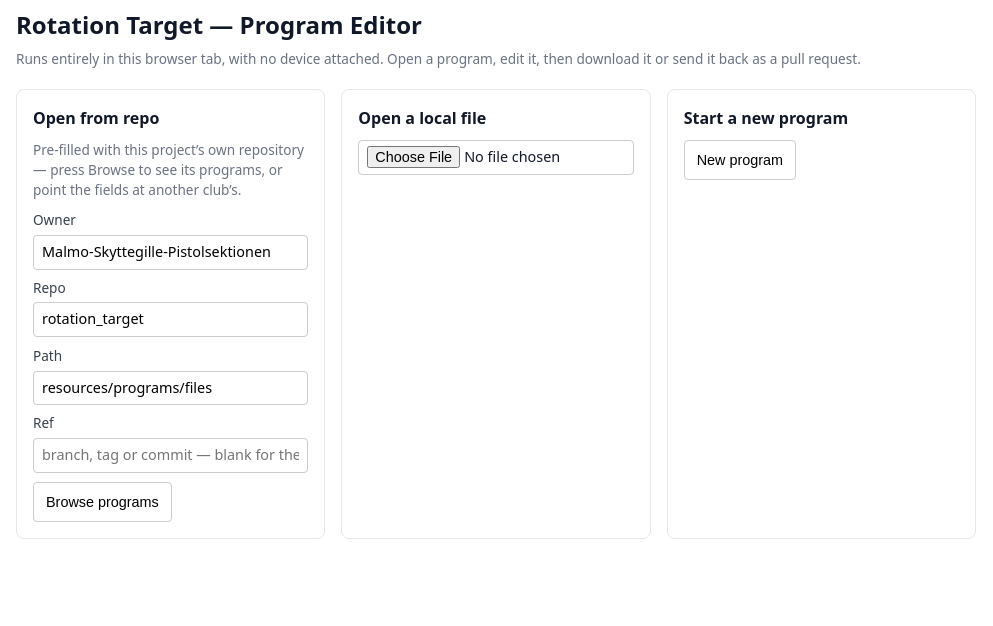
Test: the picker › carries the path and ref into the listing request
The width and height of the screenshot is (993, 626).
Expected: the element with test id "picker-new" is shown, [667, 89, 976, 539]
Type "other/programs" into the field with test id "picker-repo-path" at coordinates (171, 388), box [33, 371, 308, 405]
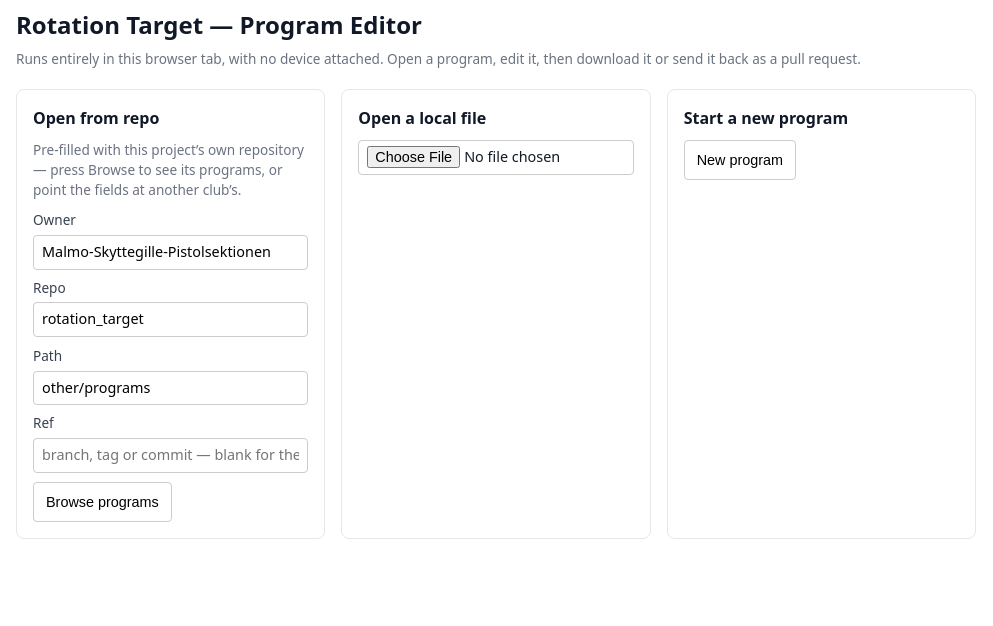
Type "v1.2.3" into the field with test id "picker-repo-ref" at coordinates (171, 455), box [33, 438, 308, 473]
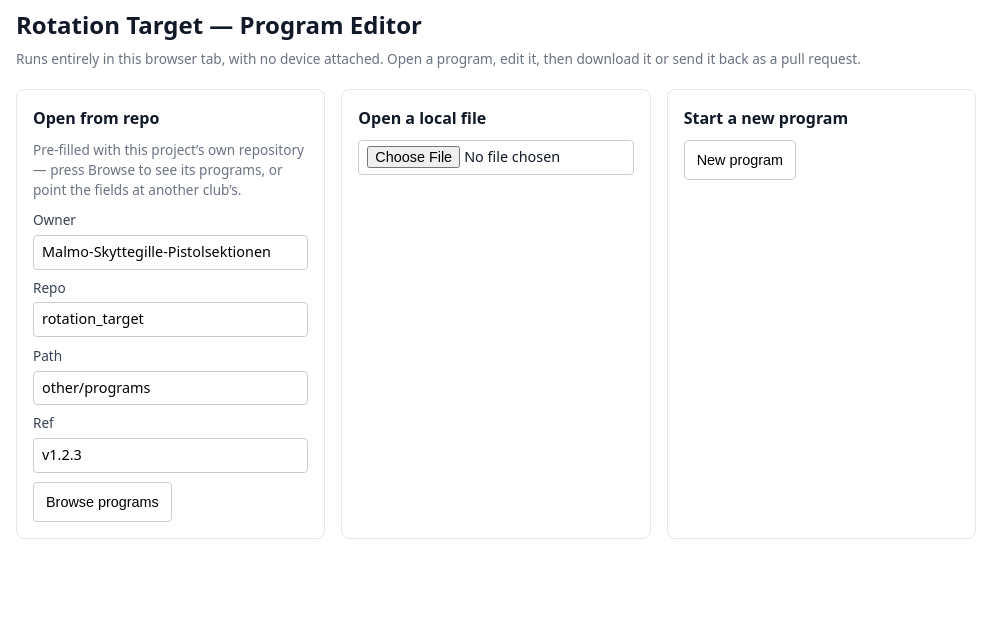
Click the button with test id "picker-repo-browse" at coordinates (102, 502), box [33, 482, 172, 522]
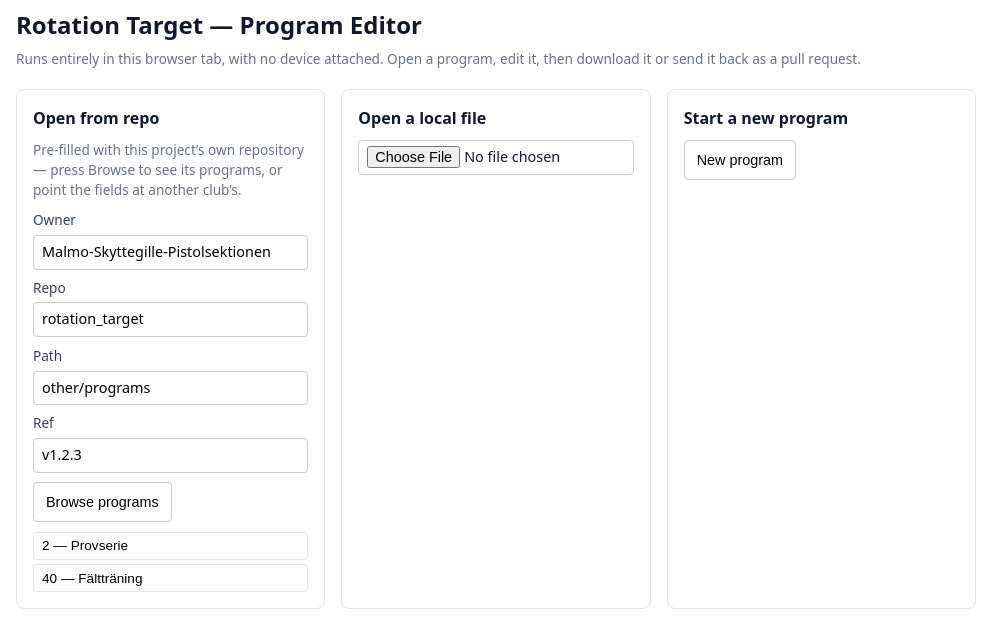
Expected: the list with test id "picker-repo-files" is shown, [33, 532, 308, 592]
